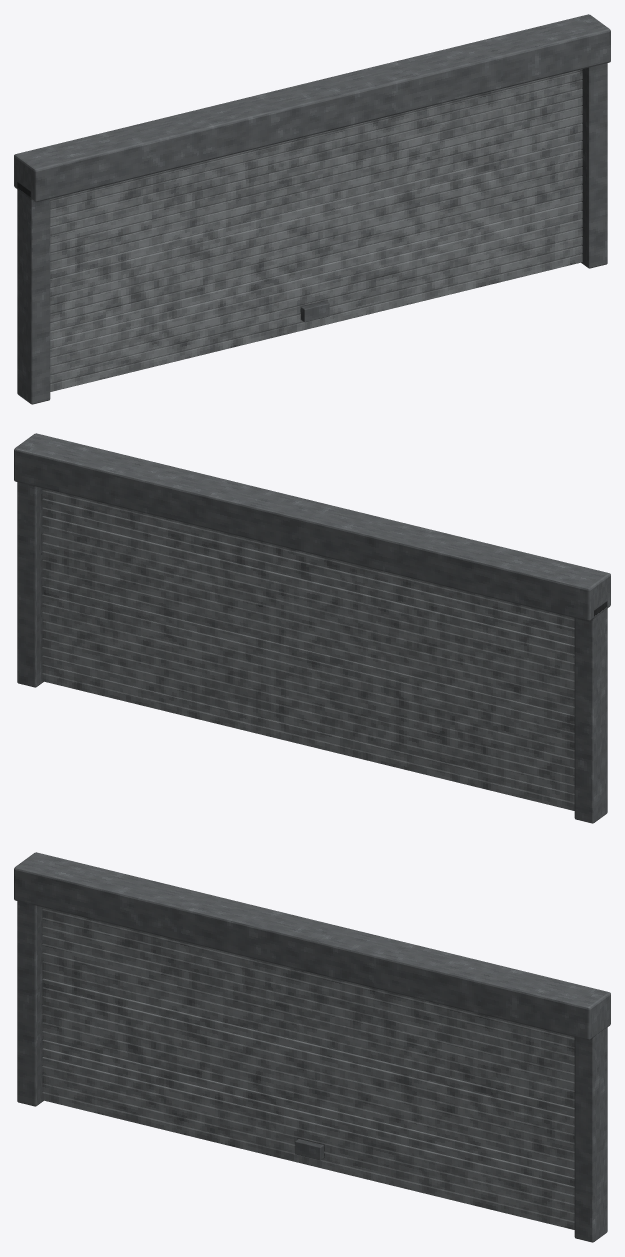
The model's file is arena_city_shutter.glb.
3 views of the same model, one above another, from view 1: azimuth 30°, elevation 25°; view 2: azimuth 150°, elevation 25°; view 3: azimuth 330°, elevation 25° (orthographic).
Visible parts, largest first — view 1: arena_city_shutter; view 2: arena_city_shutter; view 3: arena_city_shutter.
Boxes of the visible parts, x1,y1,x2,y2 form: arena_city_shutter: (14,14,610,404); arena_city_shutter: (14,433,610,823); arena_city_shutter: (14,852,610,1242).
Size of the model in its own units: 9 by 3.55 by 0.6.
Materials: 2 (2 with a texture image).
